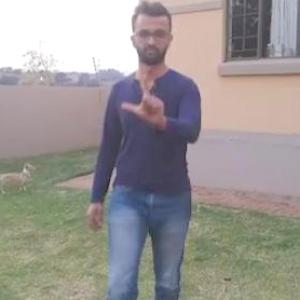land_hand: (118, 74, 170, 126)
